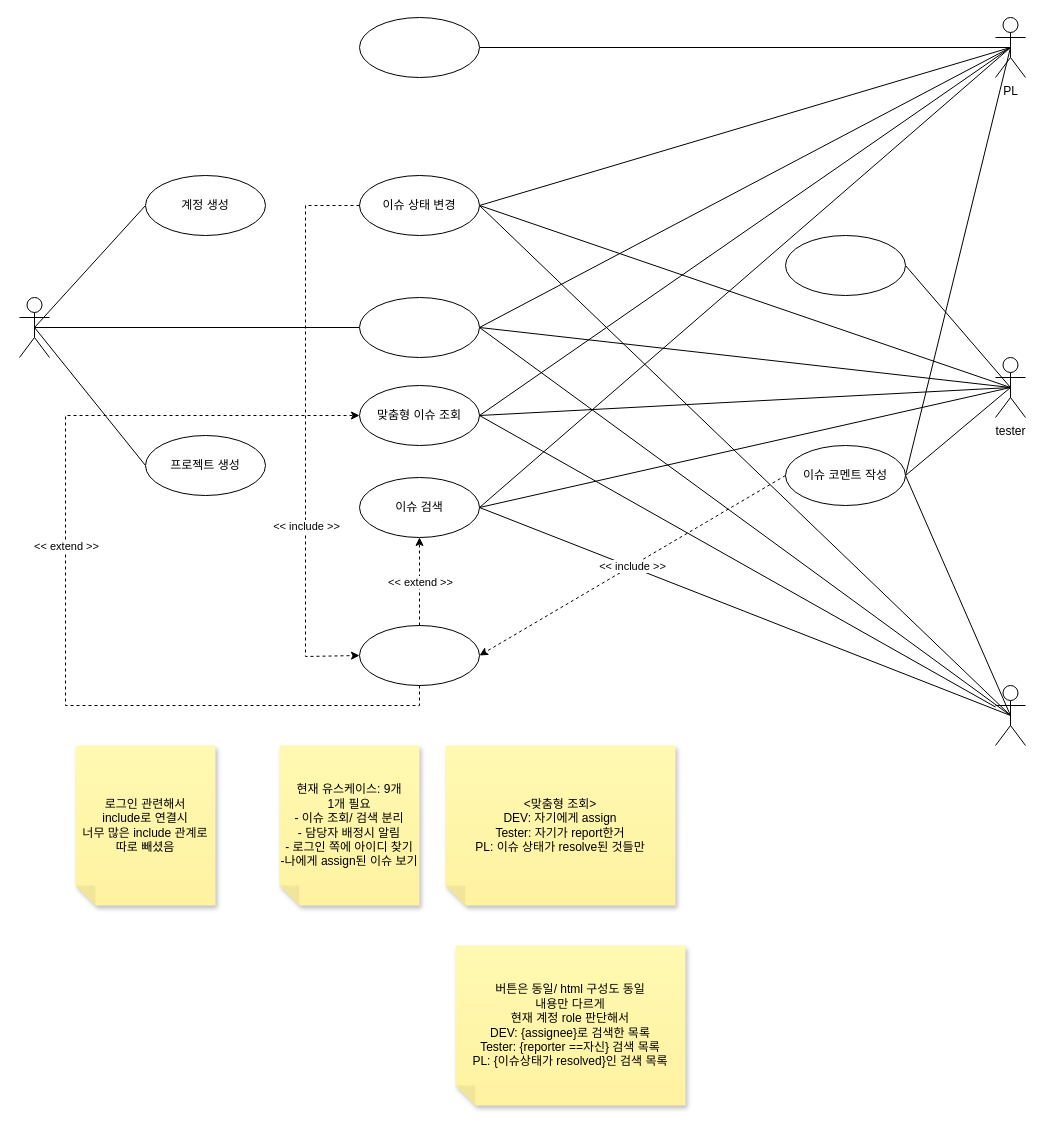
The diagram is 1043 pixels wide and 1130 high, and some of its shapes have lost their labels. The centre of each missing label's shape, as x and y in pixels:
"Admin" goes at point 34,327.
"dev" goes at point 1010,715.
"담당자 배정" goes at point 419,47.
"로그인" goes at point 419,327.
"상세 정보 확인" goes at point 419,655.
"이슈 생성" goes at point 845,265.
